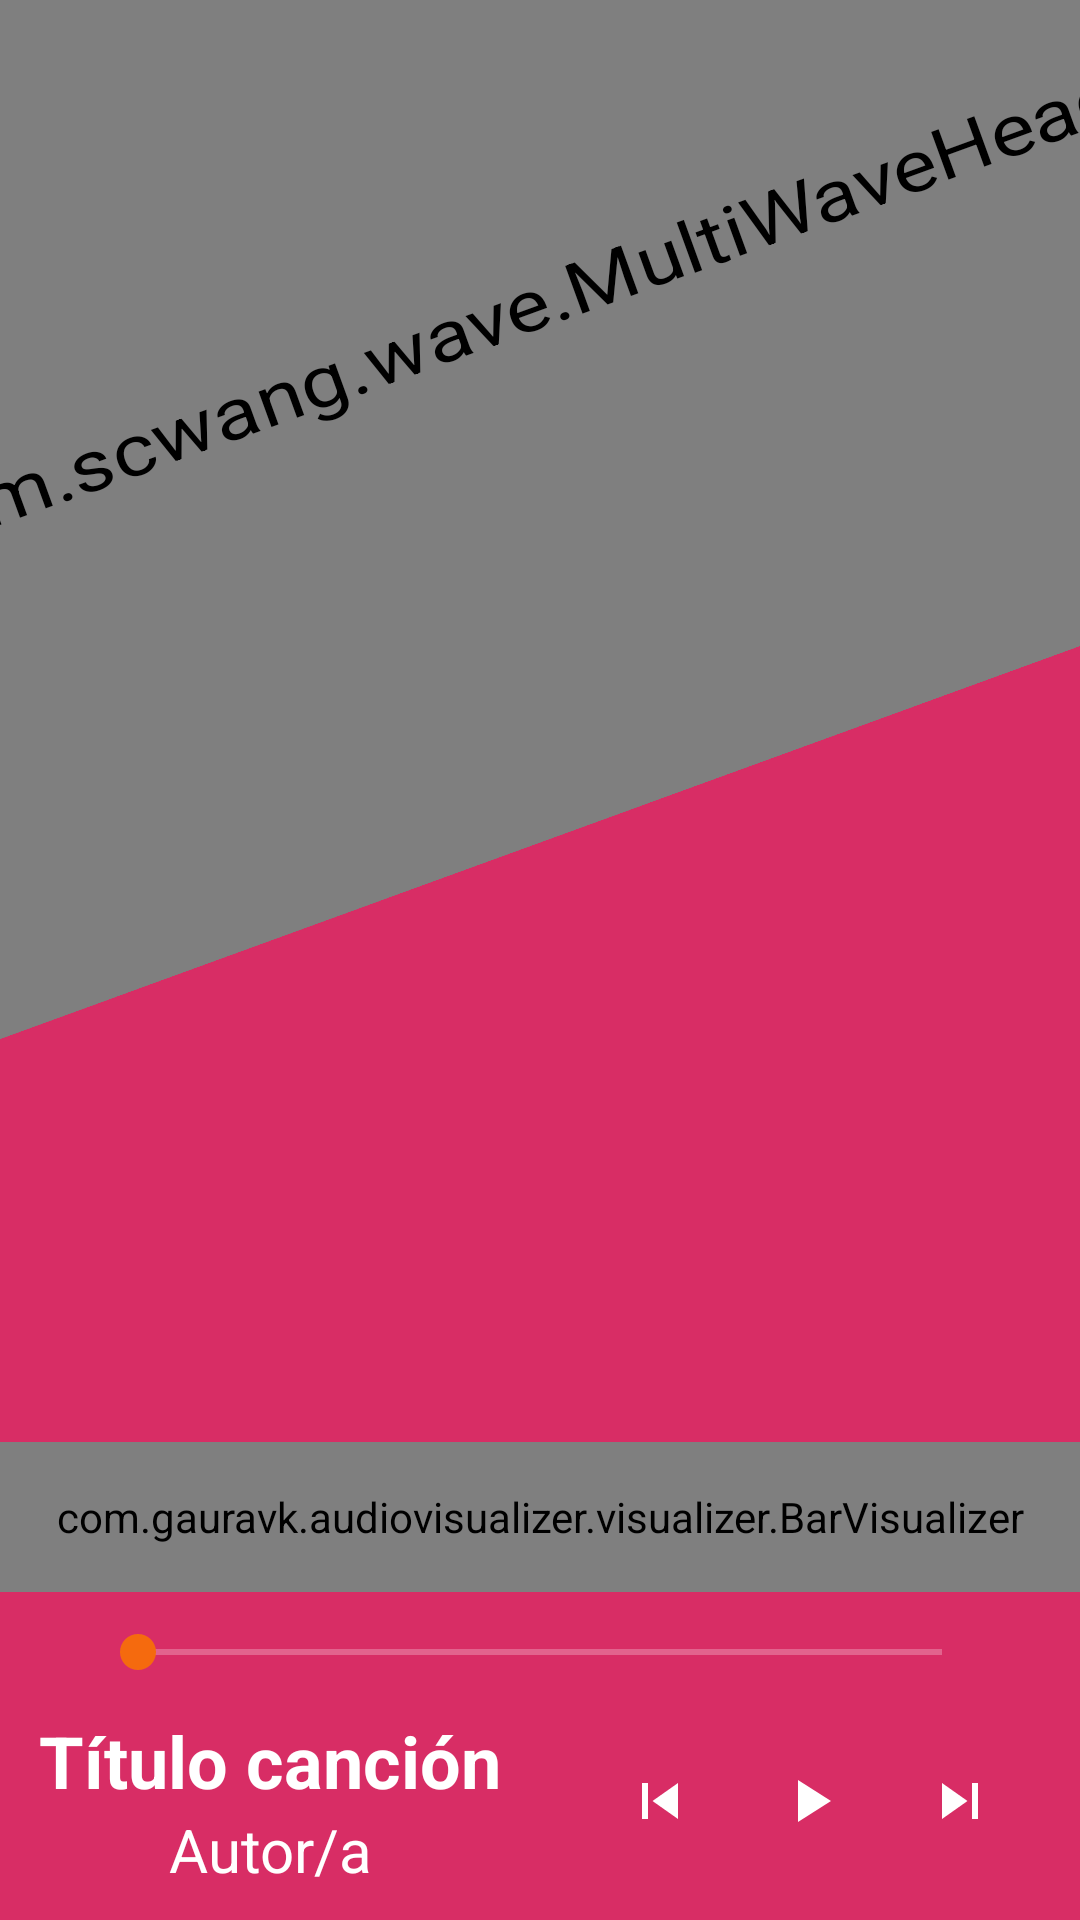

Screen size 1080x1920. Icon name, then its box in pixels as (x1, y1, x2, y2):
play: (798, 1780, 831, 1822)
skip next: (942, 1783, 978, 1819)
skip previous: (642, 1783, 678, 1819)
